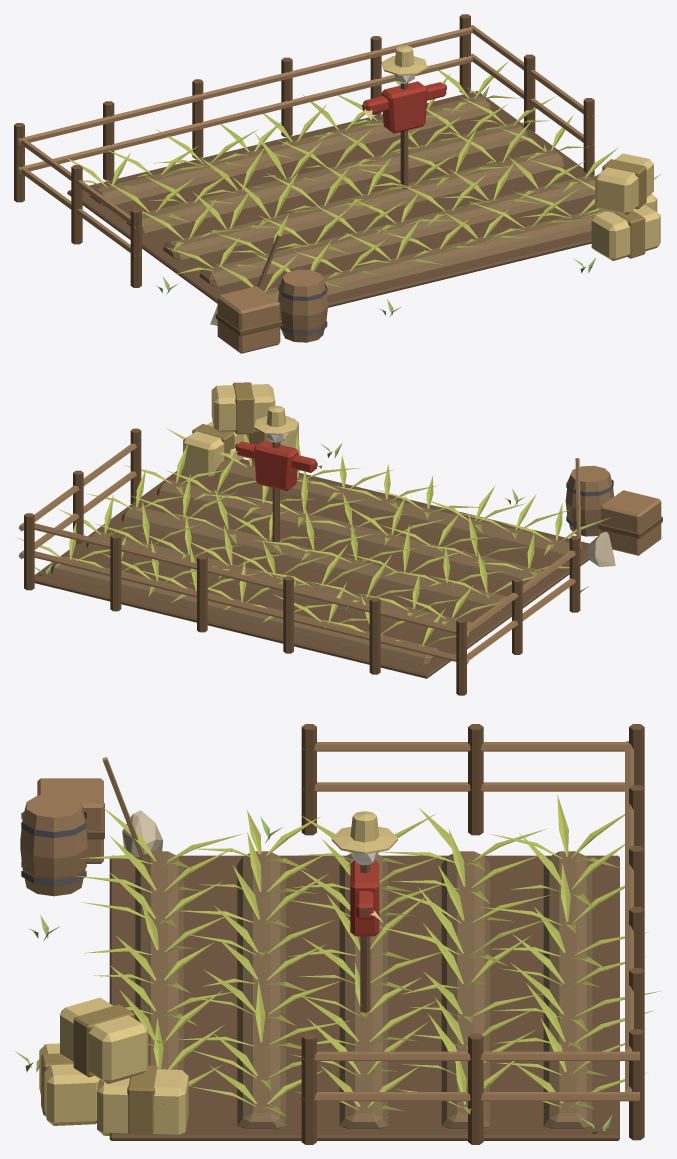
Rendered from farm_2.glb.
3 views of the same model, one above another, from view 1: azimuth 30°, elevation 25°; view 2: azimuth 150°, elevation 25°; view 3: azimuth 270°, elevation 25° (orthographic). The views are drawn at different scales.
Parts seen in each view (by area): view 1: Farm; view 2: Farm; view 3: Farm.
Part boxes in pixels (x1,y1,x2,y2): Farm: (14, 14, 660, 353); Farm: (16, 382, 662, 695); Farm: (15, 724, 660, 1144).
Size of the model in its own units: 7.02 by 2.16 by 5.85.
